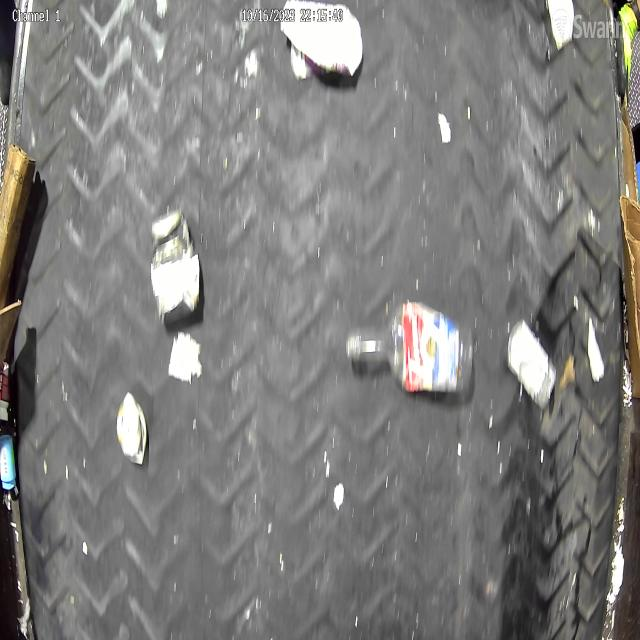can: (148, 207, 199, 323)
plastic_bottle: (347, 300, 474, 394)
